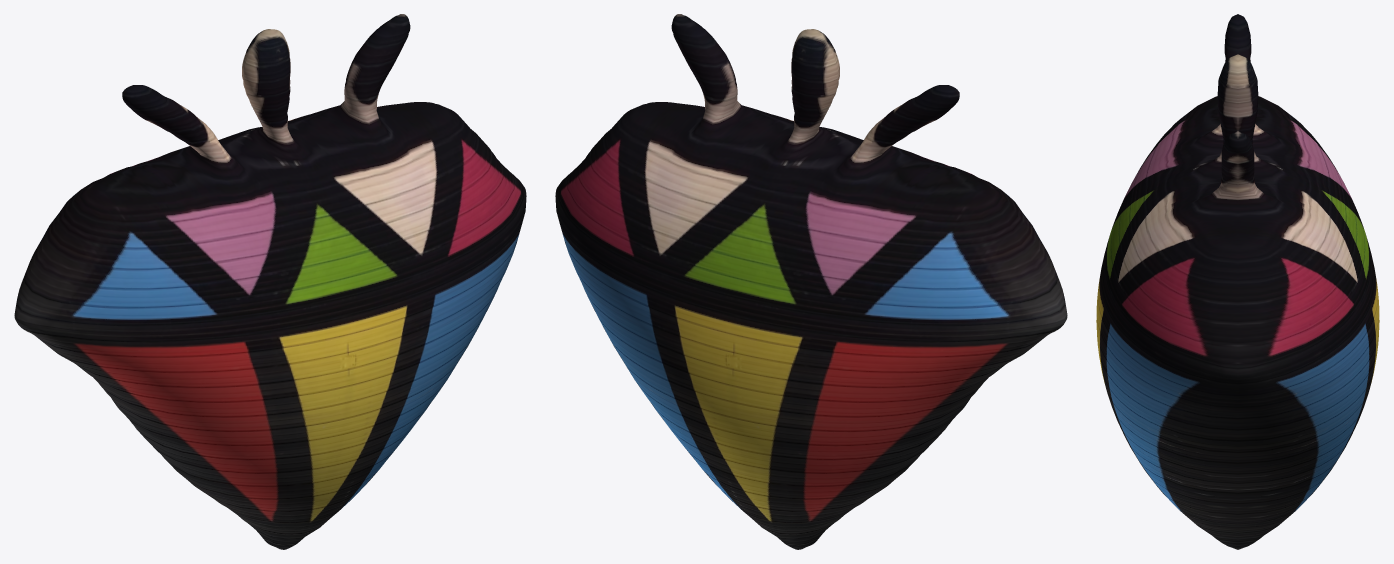
The model's file is Diamond0.glb.
3 renders of one model, left to right at view 1: azimuth 30°, elevation 25°; view 2: azimuth 150°, elevation 25°; view 3: azimuth 270°, elevation 25°, orthographic. The views are drawn at different scales.
Bounding box in the file's own units: 4.85 × 4.79 × 2.52.
Materials: 1 (1 with a texture image).
